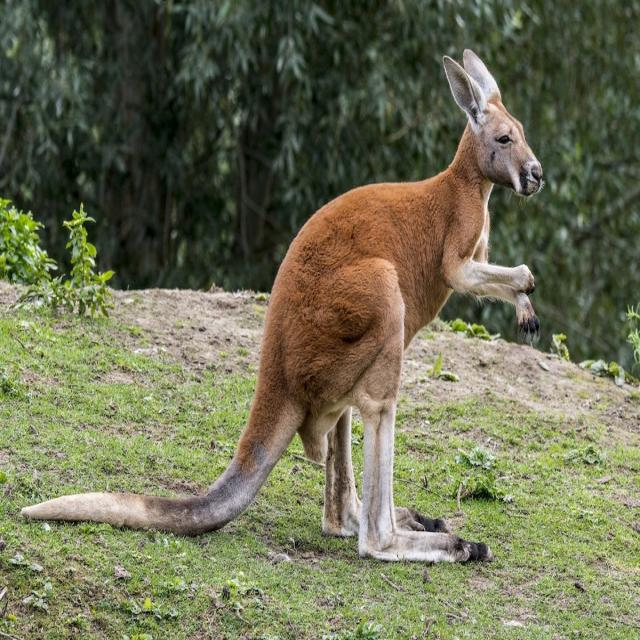Kangaroo: (18, 44, 549, 569)
